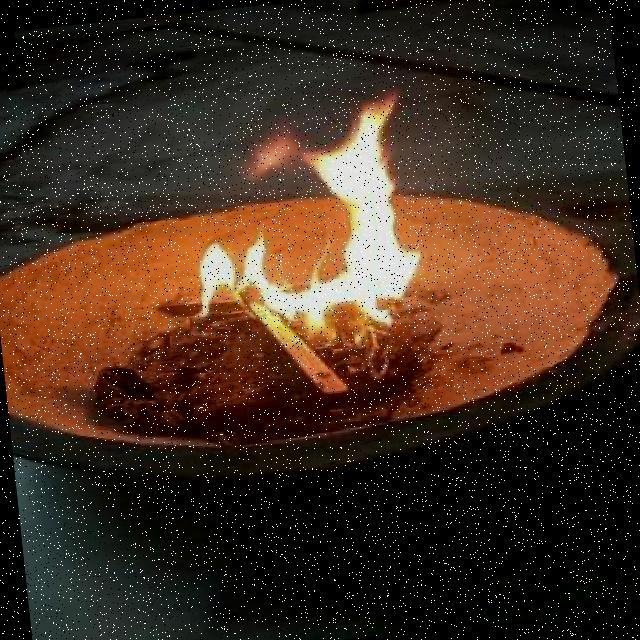Fire: (165, 80, 467, 352)
